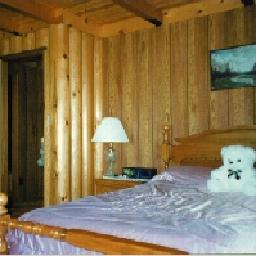Cama: (3, 156, 246, 250)
